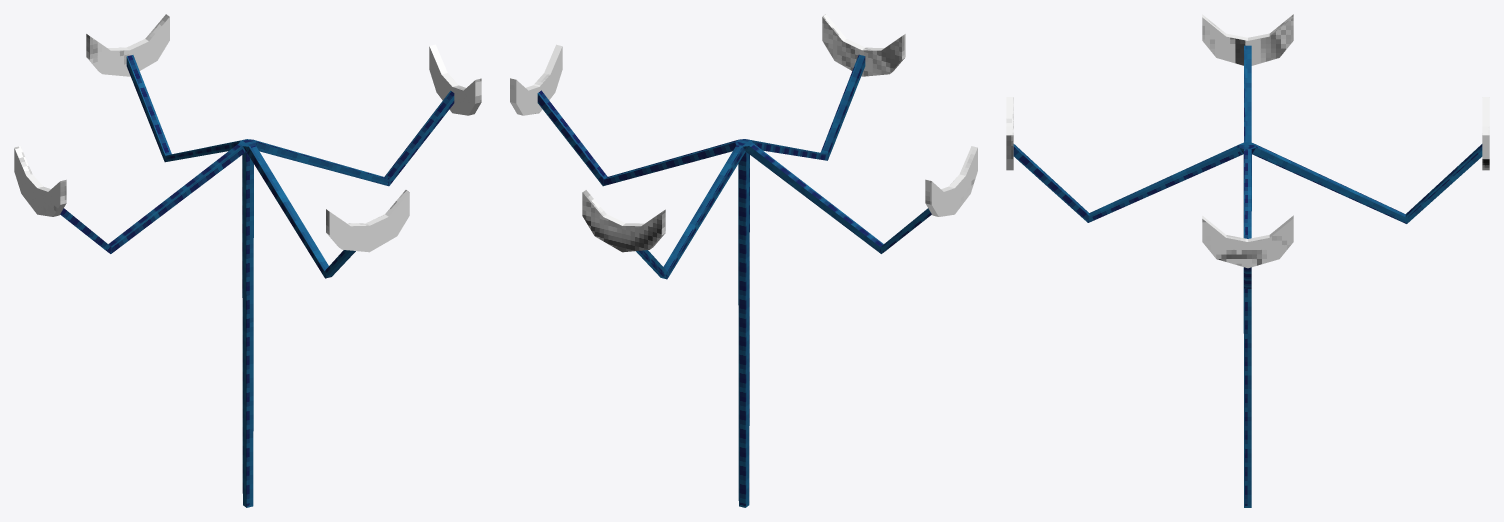
File: Plant4.fbx
3 renders of one model, left to right at view 1: azimuth 30°, elevation 25°; view 2: azimuth 150°, elevation 25°; view 3: azimuth 270°, elevation 25°, orthographic.
Parts seen in each view (by area): view 1: Talk, Moons; view 2: Talk, Moons; view 3: Talk, Moons.
Boxes of the visible parts, box(x1,y1,x2,y2) form: Talk: box(60, 55, 454, 507); Moons: box(14, 14, 481, 252); Talk: box(537, 54, 931, 507); Moons: box(510, 14, 977, 252); Talk: box(1013, 45, 1482, 507); Moons: box(1006, 14, 1489, 268).
Size of the model in its own units: 0.6081 by 0.5415 by 0.6081.
Materials: 1 (1 with a texture image).
